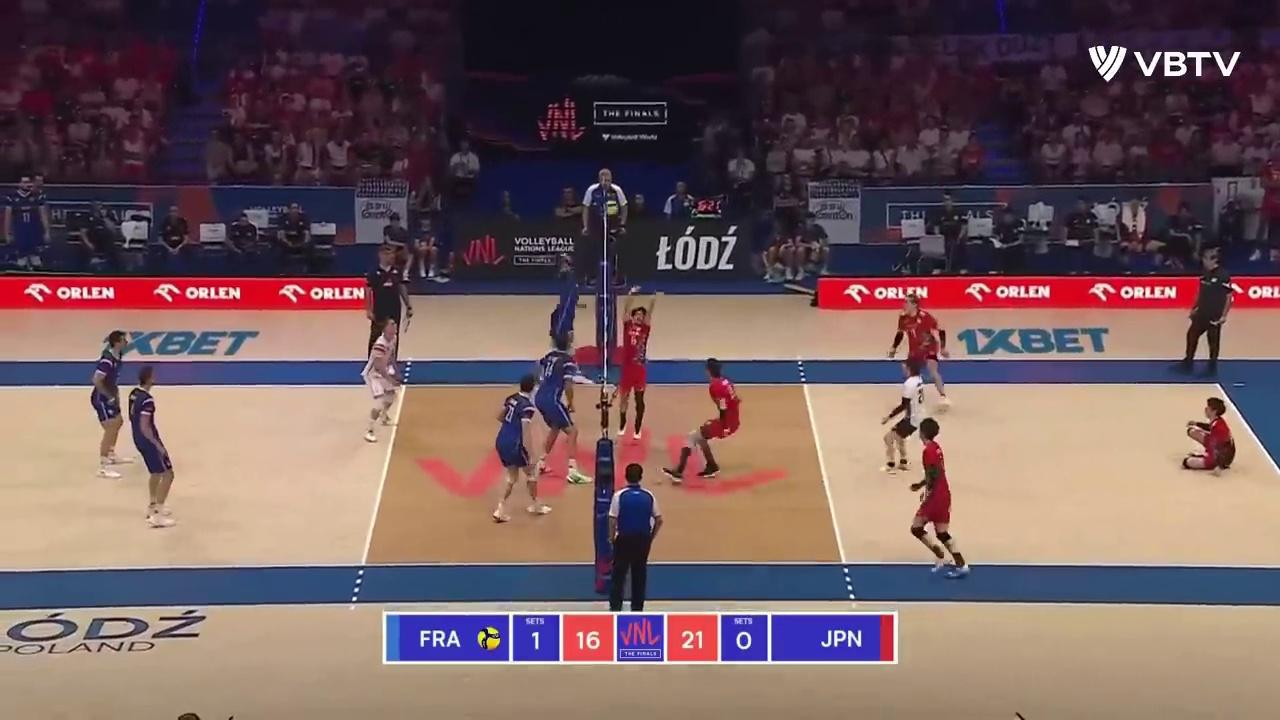ball: (607, 199, 619, 217)
